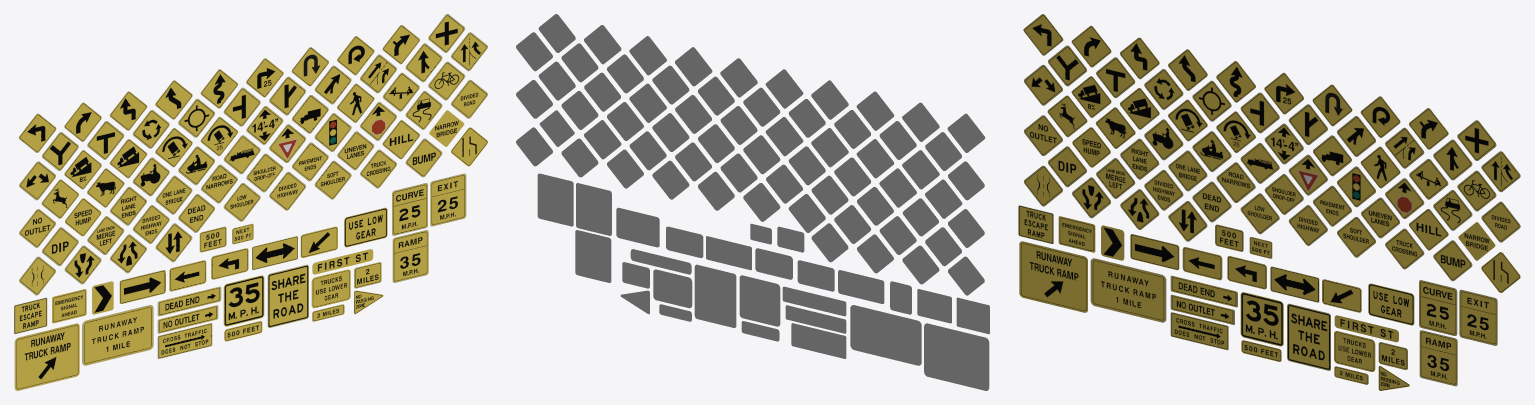
File: SignsPack-USA_01.FBX
The picture shows the model from 3 angles, left to right: view 1: azimuth 30°, elevation 25°; view 2: azimuth 150°, elevation 25°; view 3: azimuth 330°, elevation 25°; orthographic projection. The views are drawn at different scales.
Parts seen in each view (by area): view 1: W7-4b_L1, W7-4_L1, W7-4b_L2, W16-1_L1, W13-3_L1, W13-5_L1, W2-6_L1 (×2), W13-2_L2, W13-1_L1, W7-2_L1, W7-2b_L1, W7-4_L0 (+122 smaller); view 2: W7-4b_L1, W7-4_L2, W16-1_L1, W7-4_L0, W13-1_L1, W13-2_L1, W16-1_L0, W13-3_L1, W13-5_L1, W2-6_L1 (×2), W7-2_L1, W4-4p _L1 (+125 smaller); view 3: W7-4b_L1, W7-4_L1, W16-1_L1, W13-1_L1, W13-5_L1, W2-6_L1 (×2), W7-4_L2, W13-2_L2, W13-3_L2, W13-2_L0, W7-4b_L2, W4-4p _L1 (+127 smaller).
Part boxes in pixels (bbox=[...]): W7-4b_L1: bbox=[14, 323, 79, 390]; W7-4_L1: bbox=[82, 305, 153, 365]; W7-4b_L2: bbox=[14, 323, 79, 390]; W16-1_L1: bbox=[267, 264, 308, 327]; W13-3_L1: bbox=[392, 230, 428, 282]; W13-5_L1: bbox=[392, 183, 427, 235]; W2-6_L1 (×2): bbox=[133, 99, 214, 148]; W13-2_L2: bbox=[430, 173, 466, 226]; W13-1_L1: bbox=[223, 275, 264, 326]; W7-2_L1: bbox=[344, 207, 387, 247]; W7-2b_L1: bbox=[311, 269, 350, 307]; W7-4_L0: bbox=[82, 306, 153, 364]; W7-4b_L1: bbox=[924, 323, 989, 390]; W7-4_L2: bbox=[851, 306, 921, 364]; W16-1_L1: bbox=[694, 264, 736, 327]; W7-4_L0: bbox=[850, 305, 921, 364]; W13-1_L1: bbox=[739, 275, 780, 326]; W13-2_L1: bbox=[537, 173, 573, 226]; W16-1_L0: bbox=[694, 265, 736, 327]; W13-3_L1: bbox=[575, 230, 611, 282]; W13-5_L1: bbox=[576, 183, 611, 235]; W2-6_L1 (×2): bbox=[789, 99, 870, 148]; W7-2_L1: bbox=[616, 208, 659, 247]; W4-4p _L1: bbox=[791, 323, 846, 358]; W7-4b_L1: bbox=[1019, 241, 1087, 312]; W7-4_L1: bbox=[1090, 258, 1166, 322]; W16-1_L1: bbox=[1287, 303, 1330, 370]; W13-1_L1: bbox=[1240, 292, 1283, 346]; W13-5_L1: bbox=[1419, 280, 1457, 335]; W2-6_L1 (×2): bbox=[1144, 69, 1231, 120]; W7-4_L2: bbox=[1090, 258, 1165, 322]; W13-2_L2: bbox=[1459, 290, 1497, 345]; W13-3_L2: bbox=[1419, 330, 1457, 385]; W13-2_L0: bbox=[1459, 289, 1497, 345]; W7-4b_L2: bbox=[1019, 241, 1087, 312]; W4-4p _L1: bbox=[1170, 312, 1228, 350].
Size of the model in its own units: 10.42 by 5.85 by 0.00236.
